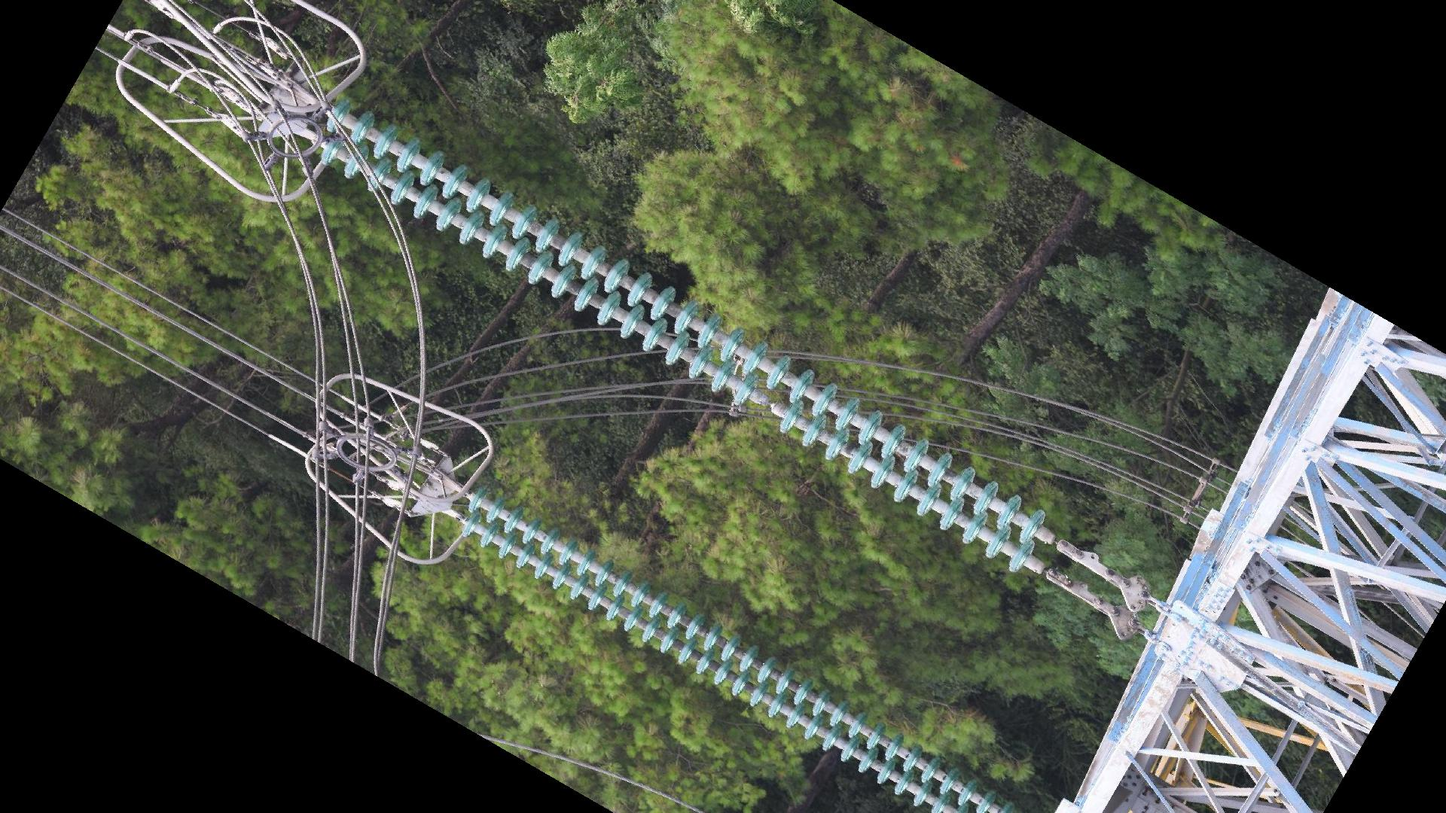insulator: (316, 95, 1051, 575), (456, 483, 1023, 813)
insulator_stringdrop: (729, 370, 807, 440)
